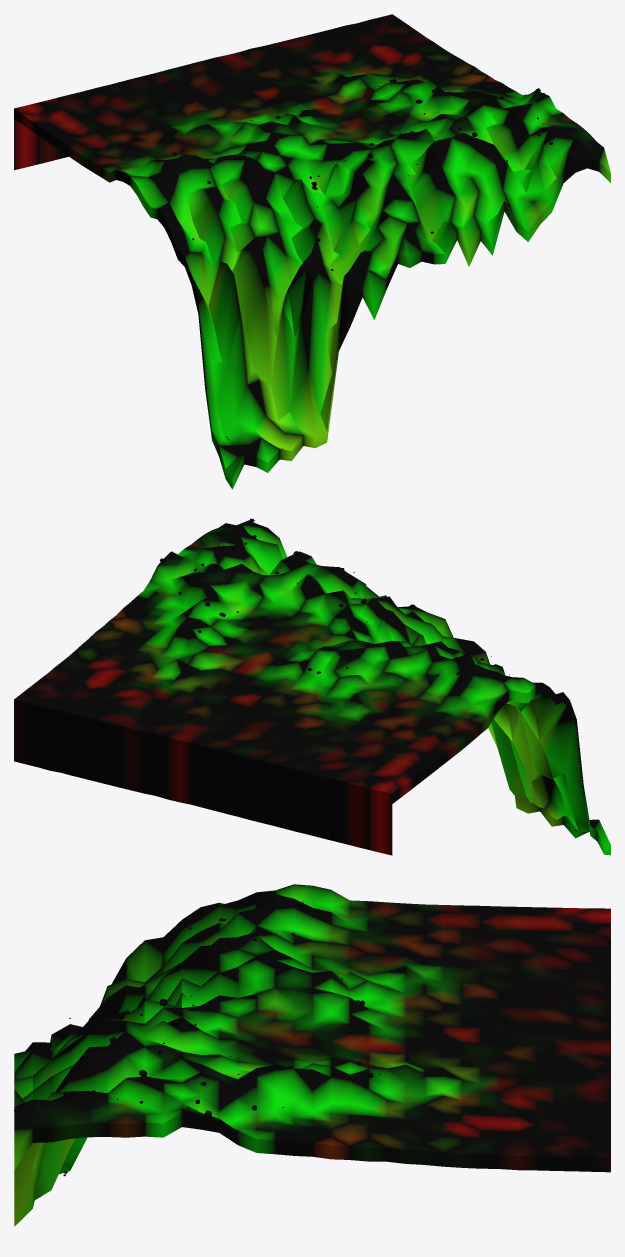
The model's file is Terrain_00_02.fbx.
3 renders of one model, top to bottom at view 1: azimuth 30°, elevation 25°; view 2: azimuth 150°, elevation 25°; view 3: azimuth 270°, elevation 25°, orthographic. The views are drawn at different scales.
Visible parts, largest first — view 1: Terrain_00_02_LOD0; view 2: Terrain_00_02_LOD0; view 3: Terrain_00_02_LOD0.
Part boxes in pixels (left/top/right/bottom): Terrain_00_02_LOD0: left=14, top=14, right=610, bottom=489; Terrain_00_02_LOD0: left=14, top=518, right=610, bottom=855; Terrain_00_02_LOD0: left=14, top=884, right=610, bottom=1226.
Size of what is drawn, in the model's own units: 385 by 255 by 384.
